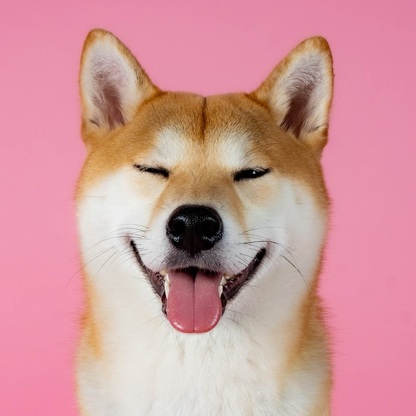shiba: (60, 22, 346, 416)
